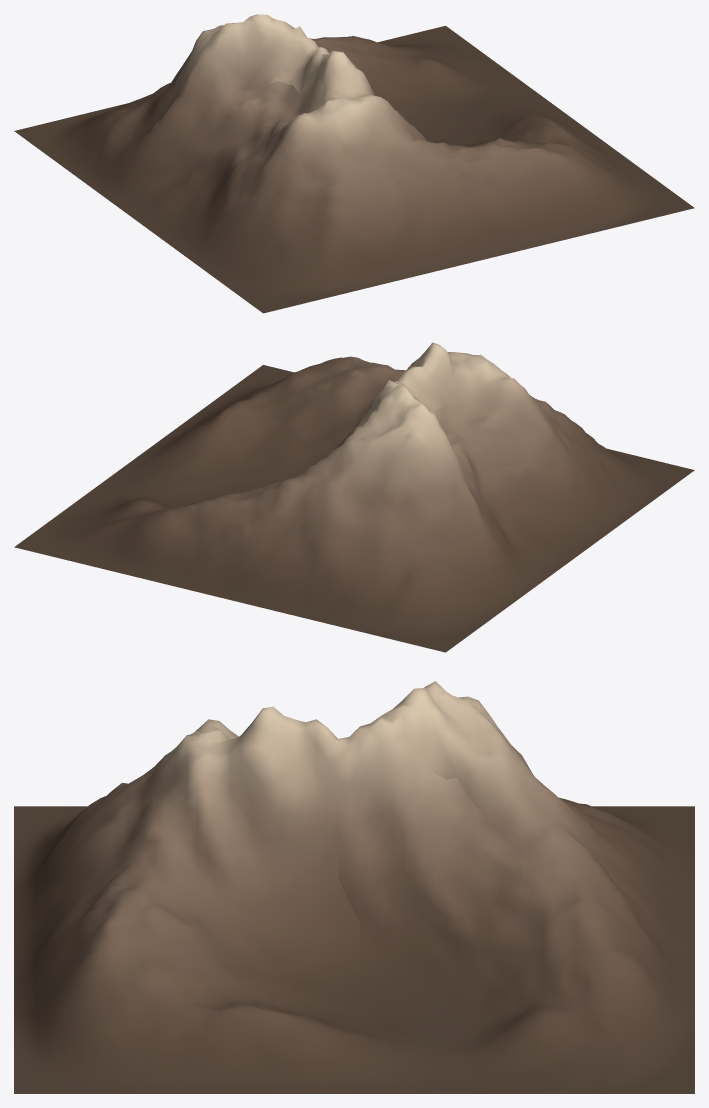
Rendered from Mountain_1A.fbx.
The picture shows the model from 3 angles, top to bottom: view 1: azimuth 30°, elevation 25°; view 2: azimuth 150°, elevation 25°; view 3: azimuth 270°, elevation 25°; orthographic projection. The views are drawn at different scales.
Visible parts, largest first — view 1: Mountain_1A; view 2: Mountain_1A; view 3: Mountain_1A.
Boxes of the visible parts, bbox=[...] form: Mountain_1A: bbox=[14, 14, 694, 313]; Mountain_1A: bbox=[14, 342, 694, 652]; Mountain_1A: bbox=[14, 681, 694, 1093].
Size of the model in its own units: 20000 by 6915 by 20000.
